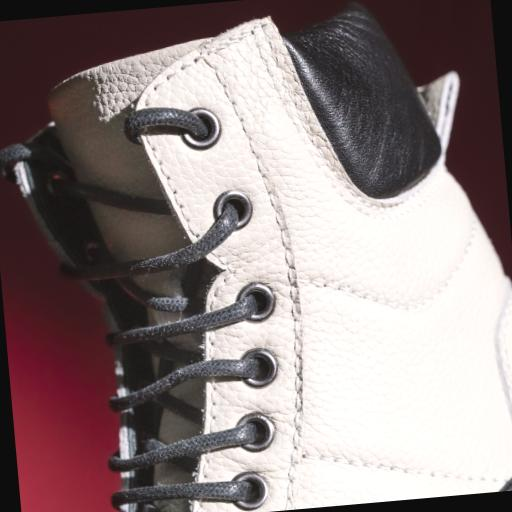shoe: (0, 5, 511, 511)
